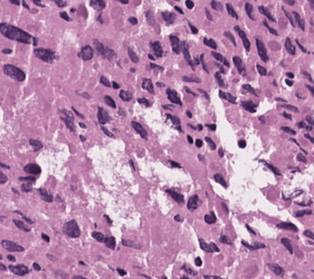nucleus: (0, 23, 36, 44), (3, 64, 25, 81), (234, 26, 249, 49), (62, 220, 80, 237), (182, 41, 193, 68), (34, 48, 54, 61), (131, 121, 146, 138), (166, 189, 183, 204), (262, 160, 280, 174), (256, 39, 267, 61), (1, 240, 23, 251), (166, 89, 181, 105), (169, 35, 181, 53), (61, 116, 75, 131), (9, 264, 28, 275), (219, 90, 235, 103), (97, 107, 110, 123), (13, 219, 30, 231), (15, 211, 32, 222), (38, 188, 52, 201), (199, 238, 212, 252), (80, 45, 92, 60), (187, 195, 199, 210), (233, 56, 243, 73), (102, 47, 115, 60), (224, 31, 236, 45), (150, 41, 161, 56), (241, 101, 256, 112), (268, 264, 283, 275), (24, 163, 40, 173), (214, 174, 226, 187), (93, 40, 104, 54), (142, 79, 153, 93), (182, 264, 196, 275), (122, 240, 140, 248), (29, 139, 42, 150), (104, 236, 115, 249), (128, 48, 138, 62), (242, 84, 256, 94), (119, 90, 131, 101), (104, 95, 115, 107), (167, 114, 179, 125), (203, 38, 216, 48), (215, 72, 224, 86), (204, 212, 215, 223), (211, 51, 223, 61), (101, 127, 113, 137), (205, 137, 215, 149), (92, 231, 104, 241), (200, 54, 207, 71), (60, 109, 73, 118), (256, 64, 266, 75), (198, 88, 208, 99), (72, 107, 83, 117), (182, 76, 200, 82), (184, 87, 196, 96), (241, 241, 254, 249), (100, 76, 110, 86), (220, 235, 231, 244), (137, 98, 149, 106), (246, 224, 255, 234), (150, 63, 162, 70), (169, 160, 180, 167), (253, 242, 264, 249), (19, 176, 34, 181), (0, 172, 6, 184), (210, 242, 218, 251), (21, 184, 31, 191), (41, 233, 49, 241), (205, 124, 215, 130), (33, 262, 40, 270), (117, 268, 125, 275), (129, 160, 135, 169), (195, 139, 202, 146), (238, 140, 245, 147), (105, 215, 111, 223), (195, 257, 201, 265), (204, 275, 219, 278), (112, 81, 118, 88), (174, 215, 181, 221), (7, 255, 14, 261), (2, 48, 10, 53), (223, 58, 228, 66), (81, 93, 89, 98), (187, 135, 192, 143), (1, 163, 9, 168), (222, 203, 227, 211), (198, 155, 204, 161), (0, 263, 5, 270), (218, 148, 222, 156), (148, 54, 154, 59), (186, 111, 191, 117), (79, 122, 85, 127), (197, 124, 202, 130), (140, 274, 149, 277), (73, 275, 82, 278), (80, 135, 84, 140), (79, 261, 84, 264), (157, 83, 163, 85)
